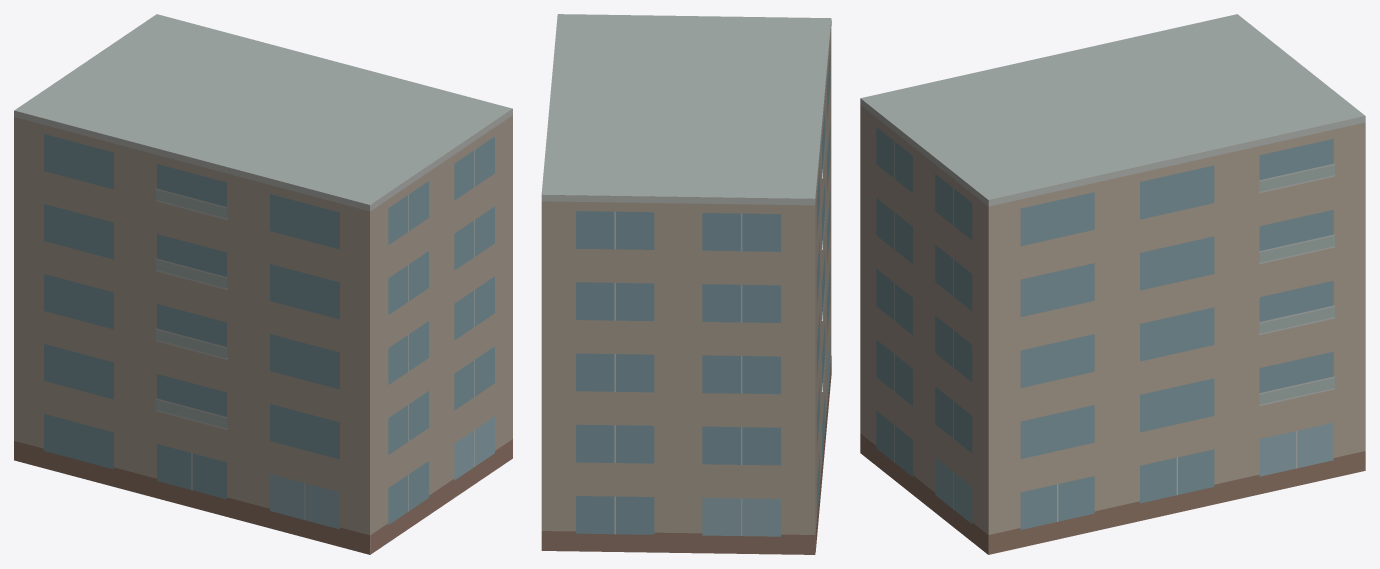
Rendered from survey-upis-32894205.glb.
3 views of the same model, side by side, from view 1: azimuth 30°, elevation 25°; view 2: azimuth 150°, elevation 25°; view 3: azimuth 270°, elevation 25° (orthographic).
Visible parts, largest first — view 1: survey-upis-32894205.tmp; view 2: survey-upis-32894205.tmp; view 3: survey-upis-32894205.tmp.
Boxes of the visible parts, x1,y1,x2,y2 form: survey-upis-32894205.tmp: (14,14,512,554); survey-upis-32894205.tmp: (541,14,831,554); survey-upis-32894205.tmp: (860,14,1365,554).
Bounding box in the file's own units: 14.86 × 13.2 × 17.04.
